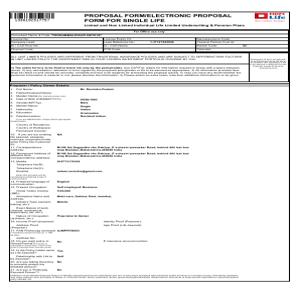image: (253, 11, 290, 24)
table: (11, 29, 289, 51)
text: (11, 83, 241, 280), (12, 64, 241, 79), (82, 12, 246, 29), (11, 55, 244, 60), (250, 56, 287, 71)
